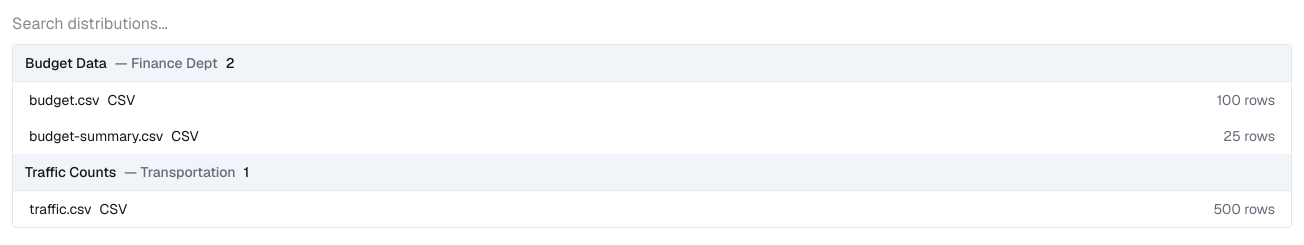
DistributionPicker › filters by search text matching distribution title
Type "budget-summary" into the field labelled "Search distributions" at (121, 24), box [12,12,230,36]
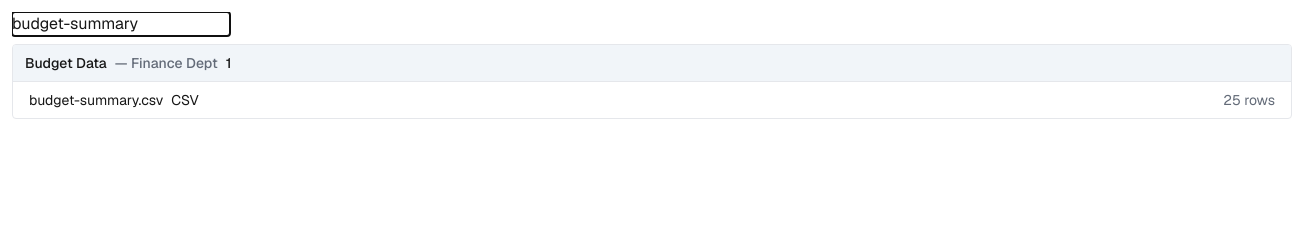
Expected: the text "budget-summary.csv" is shown, [29,90,163,110]
Now the button "traffic.csv" is gone
